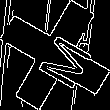M_NW: (22, 23, 88, 87)
